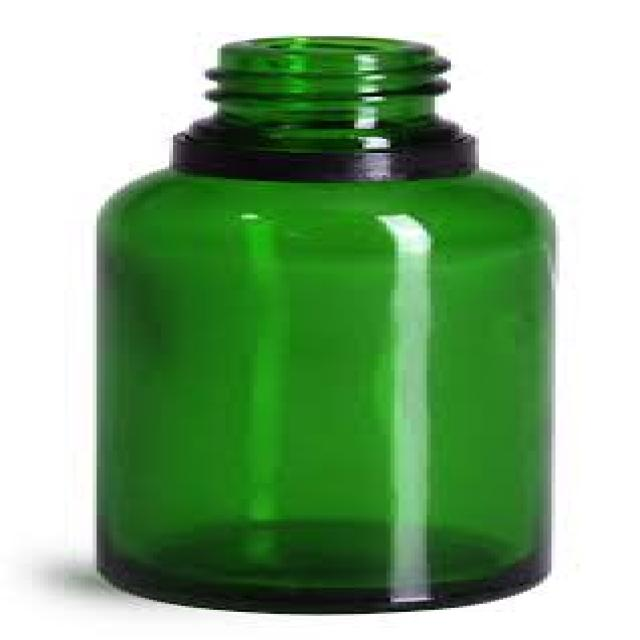glass: (89, 36, 548, 614)
